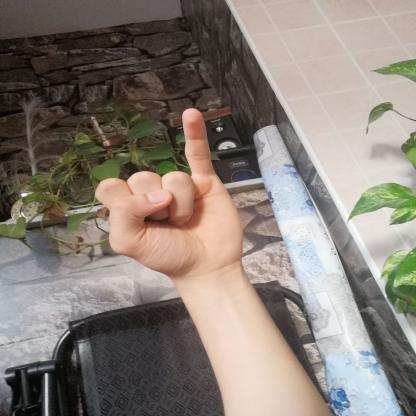MEEM: (78, 97, 252, 284)
